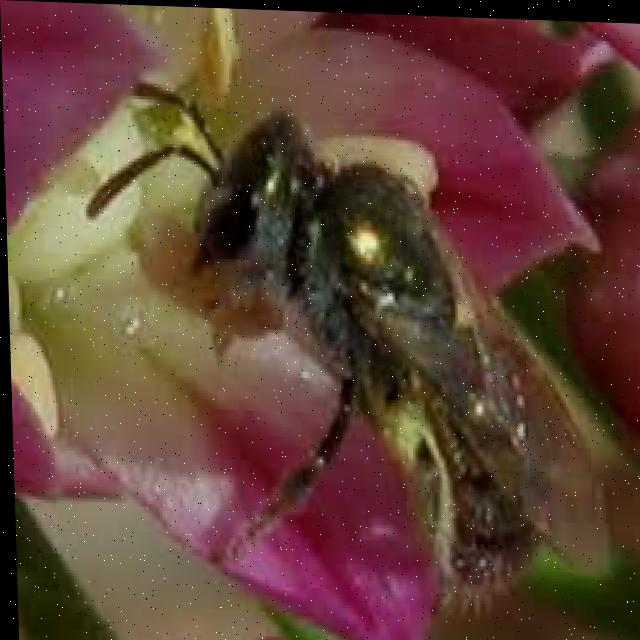Seladonia: (103, 33, 570, 589)
